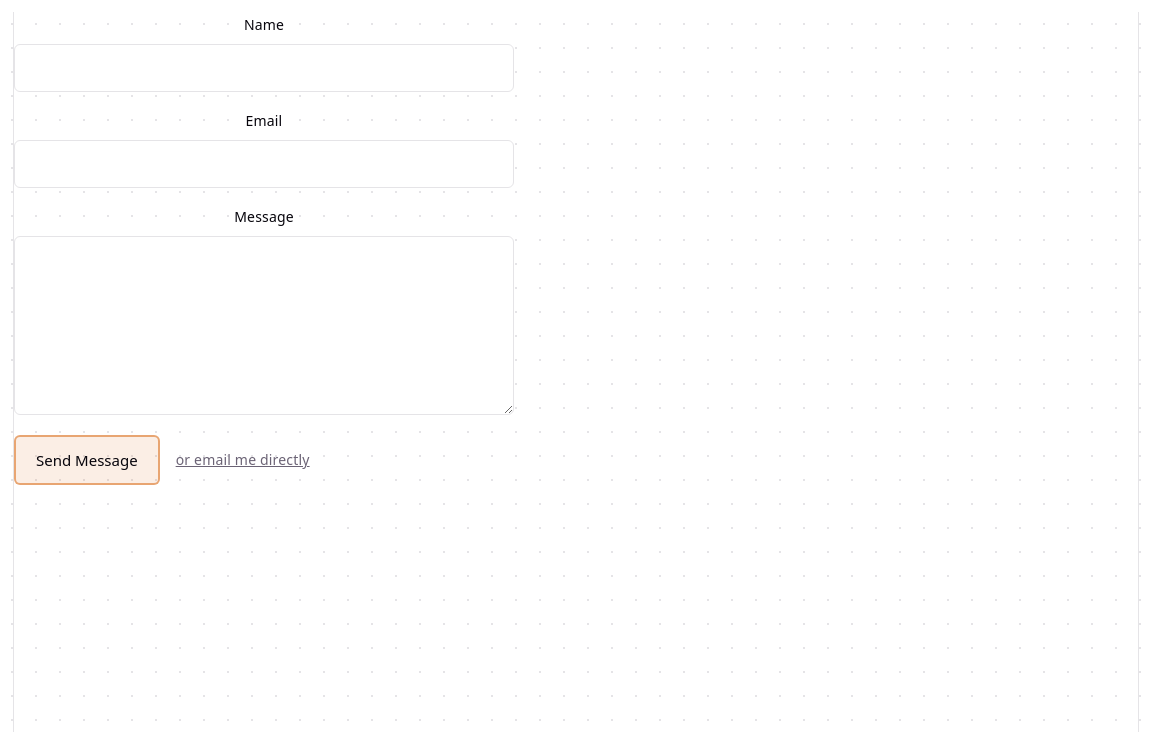
Scenario: ContactTab › shows a rate-limit message on 429
Type "Ada Lovelace" into the field labelled "Name" at (264, 68), box [14,44,514,92]
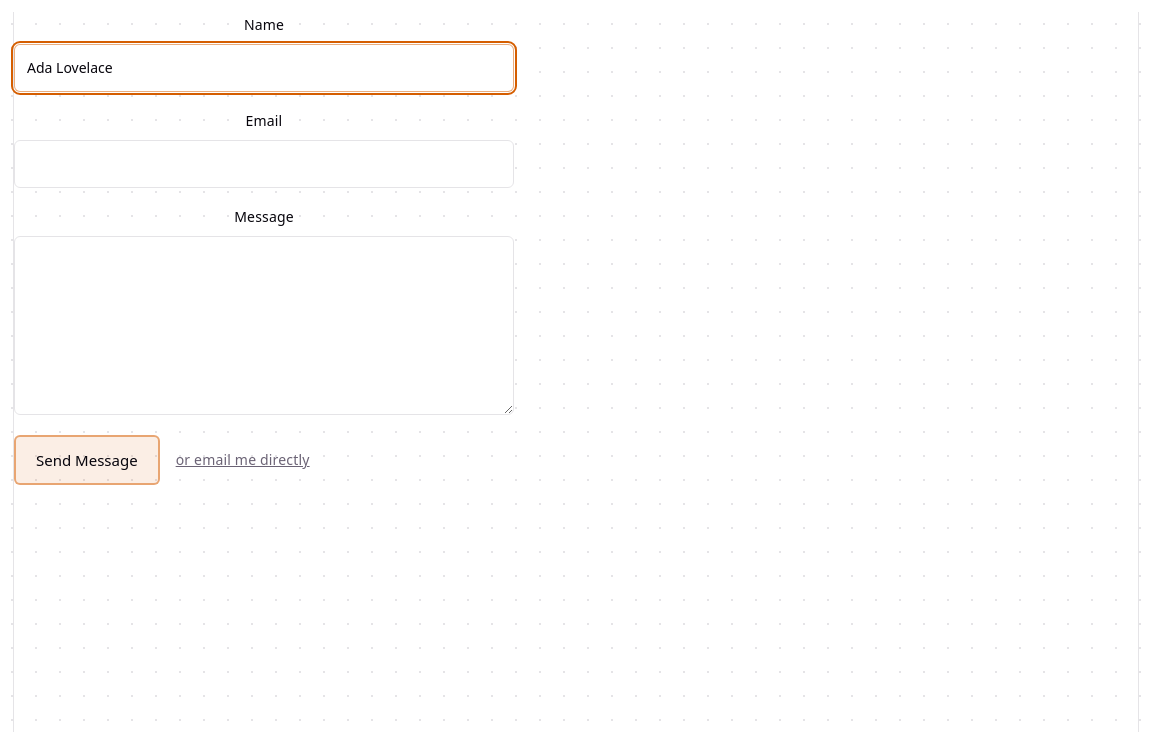
Type "ada@example.com" into the field labelled "Email" at (264, 164), box [14,140,514,188]
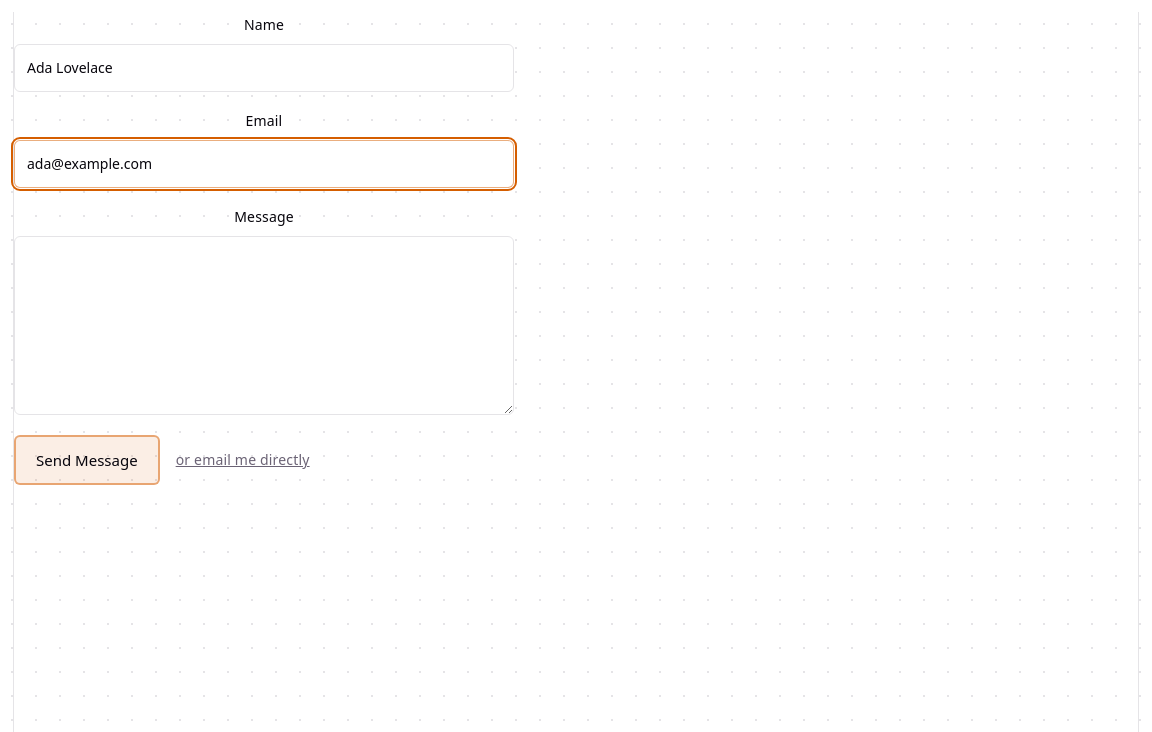
Type "Hello there" into the text box labelled "Message" at (264, 326), box [14,236,514,415]
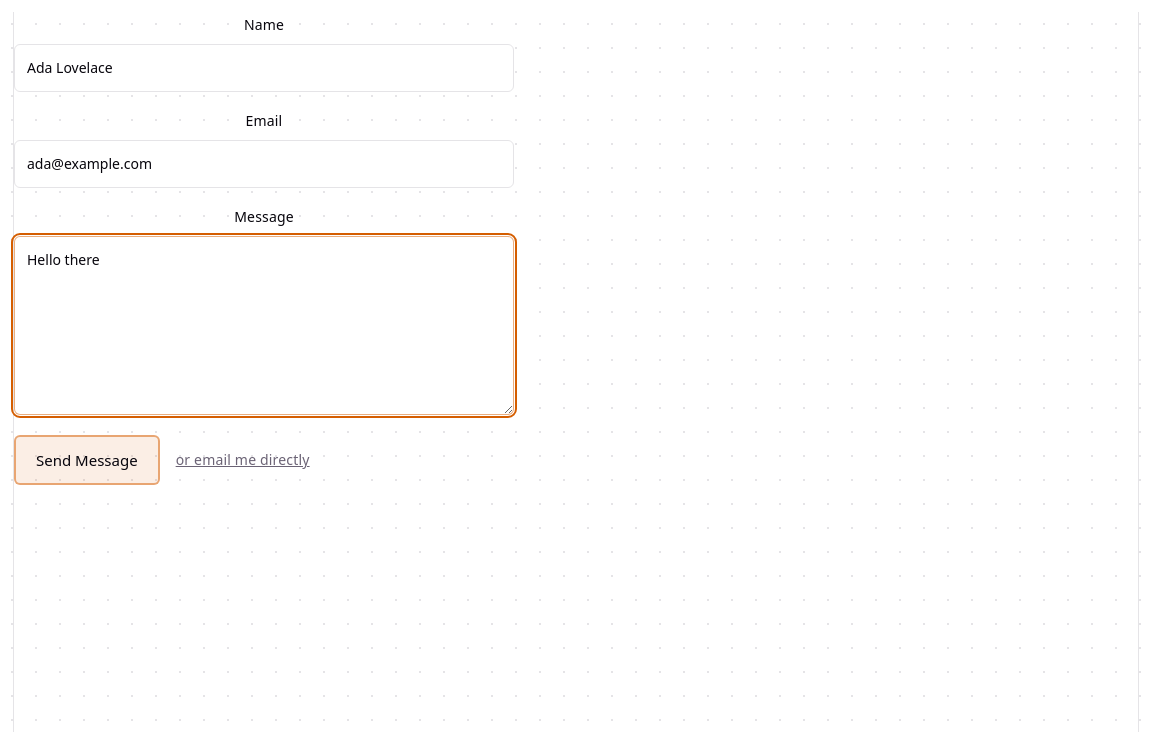
Click the button "Send Message" at (87, 460), box [14,435,160,485]
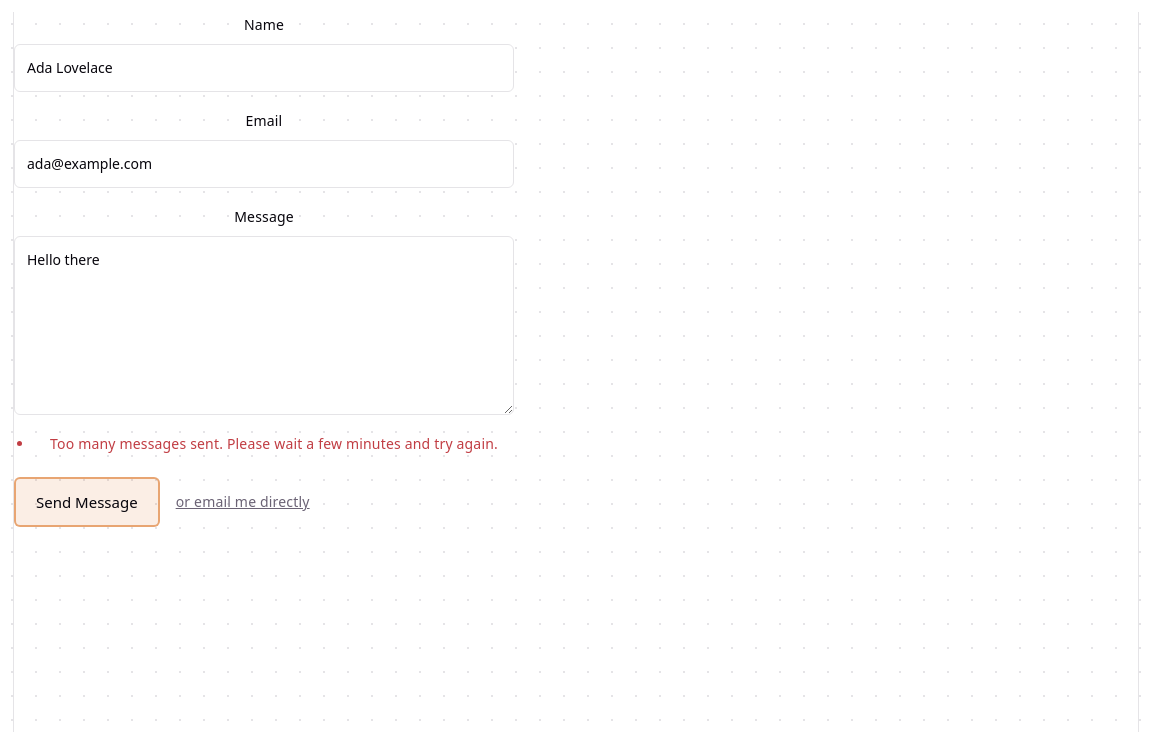
Now the list item "Too many messages sent" is shown, box [50,434,498,453]
